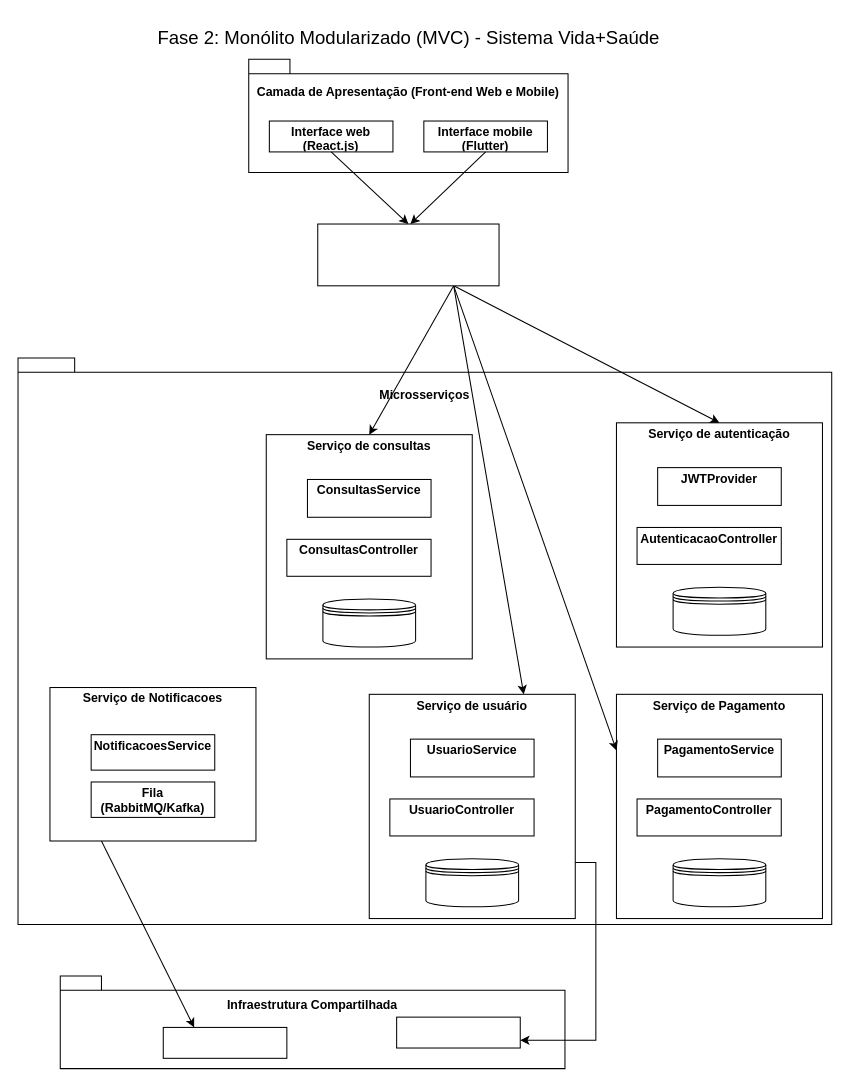
Image size: 850x1087. Some labels were removed from this diagram. The centre of each missing label's shape, as x and y in pixels:
"API Gateway ( autenticação central e roteamento )" belongs at (408,254).
"Armazenamento (Amazon S3)" belongs at (458,1032).
"BD autenticação" belongs at (719,610).
"BD consultas" belongs at (369,622).
"BD pagamento" belongs at (719,882).
"BD usuário" belongs at (472,882).
"EmailSender (SMTP)" belongs at (224,1042).
